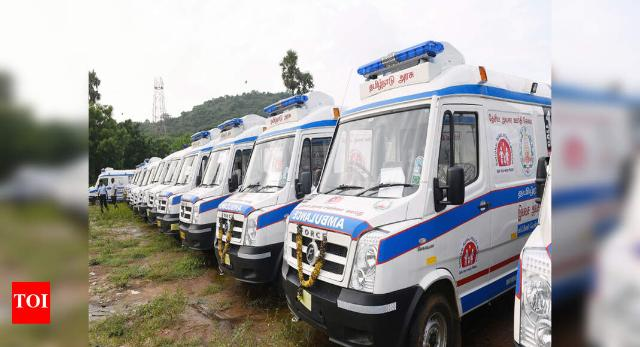ambulance: (282, 42, 551, 346), (214, 92, 338, 282), (179, 115, 265, 250), (156, 130, 219, 239), (514, 161, 551, 346), (147, 145, 186, 224), (138, 153, 174, 219), (130, 157, 161, 215), (89, 168, 135, 203), (125, 162, 145, 210)
